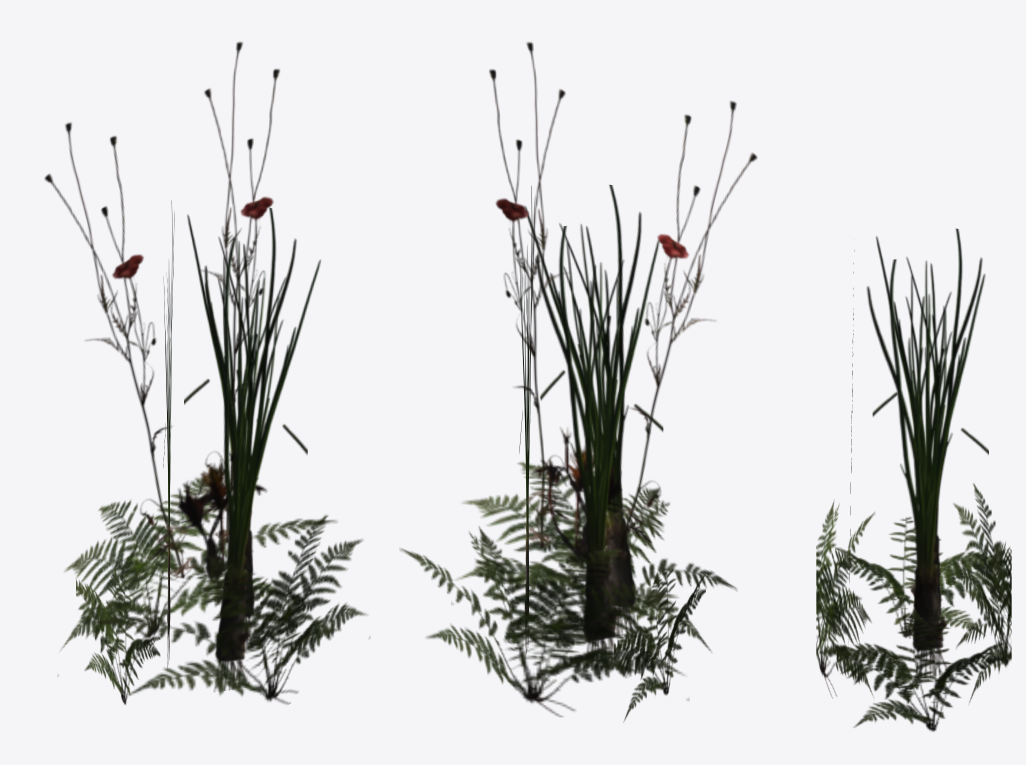
Rendered from graswold.glb.
The picture shows the model from 3 angles, left to right: view 1: azimuth 30°, elevation 25°; view 2: azimuth 150°, elevation 25°; view 3: azimuth 270°, elevation 25°; orthographic projection. The views are drawn at different scales.
Visible parts, largest first — view 1: Cube.007; view 2: Cube.007; view 3: Cube.007.
Part boxes in pixels (x1,y1,x2,y2): Cube.007: (44,42,370,704); Cube.007: (400,42,757,722); Cube.007: (816,228,1011,731).
Size of the model in its own units: 1.66 by 2.95 by 0.8351.
Materials: 1 (1 with a texture image).
